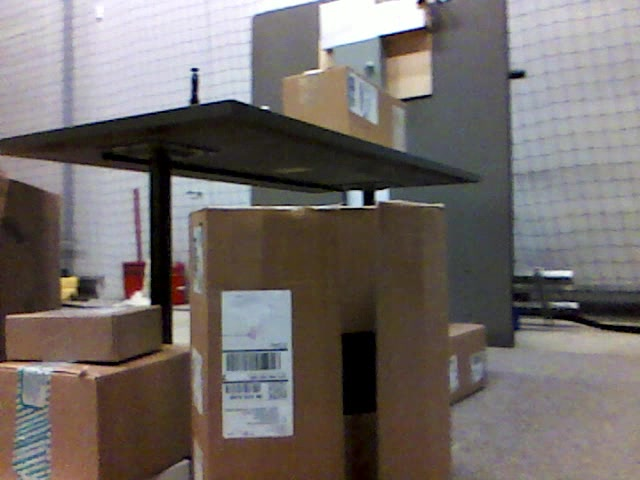box: (191, 201, 451, 479), (2, 345, 194, 479), (284, 67, 408, 150), (4, 305, 164, 357), (1, 176, 62, 308), (448, 324, 488, 413)
